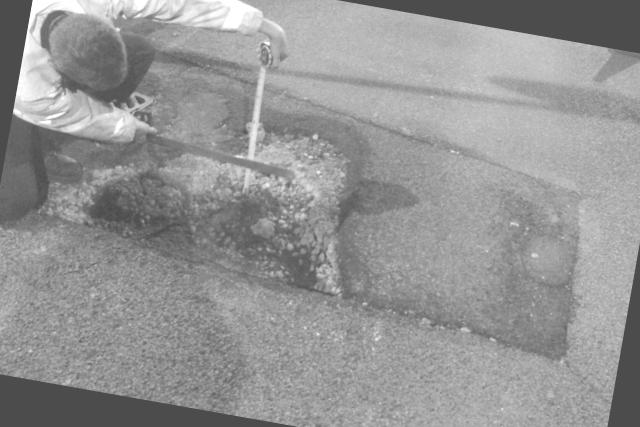Pothole: (45, 21, 640, 354)
